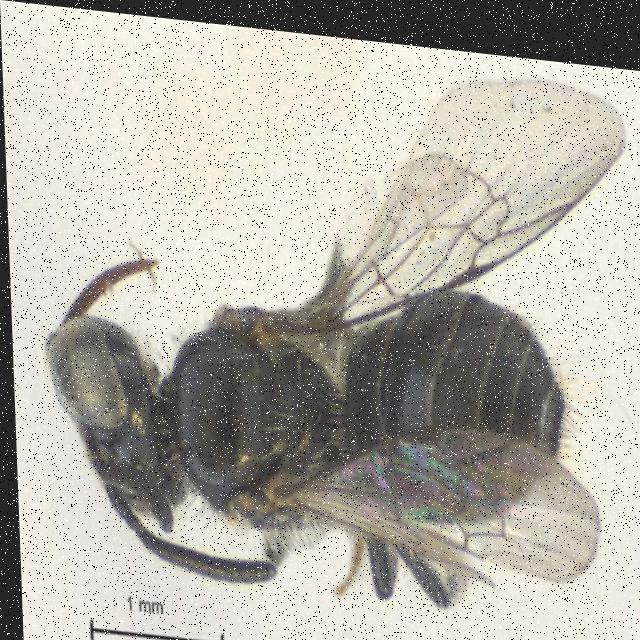Braunsapis: (31, 112, 613, 640)
